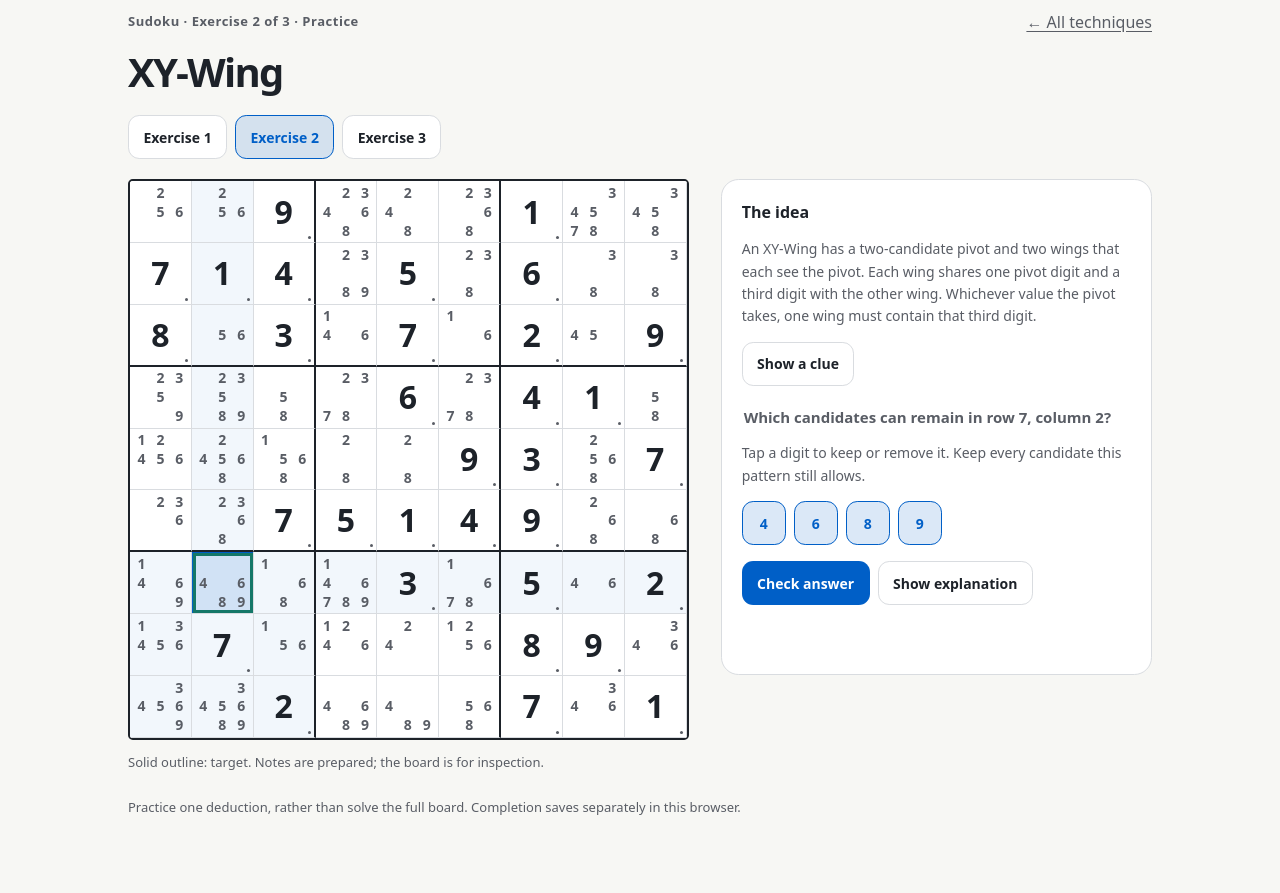
it: lets learners practice xy-wing-2 without spoiling the pattern
Click the button "Show a clue" at (798, 364), box [742, 342, 854, 386]
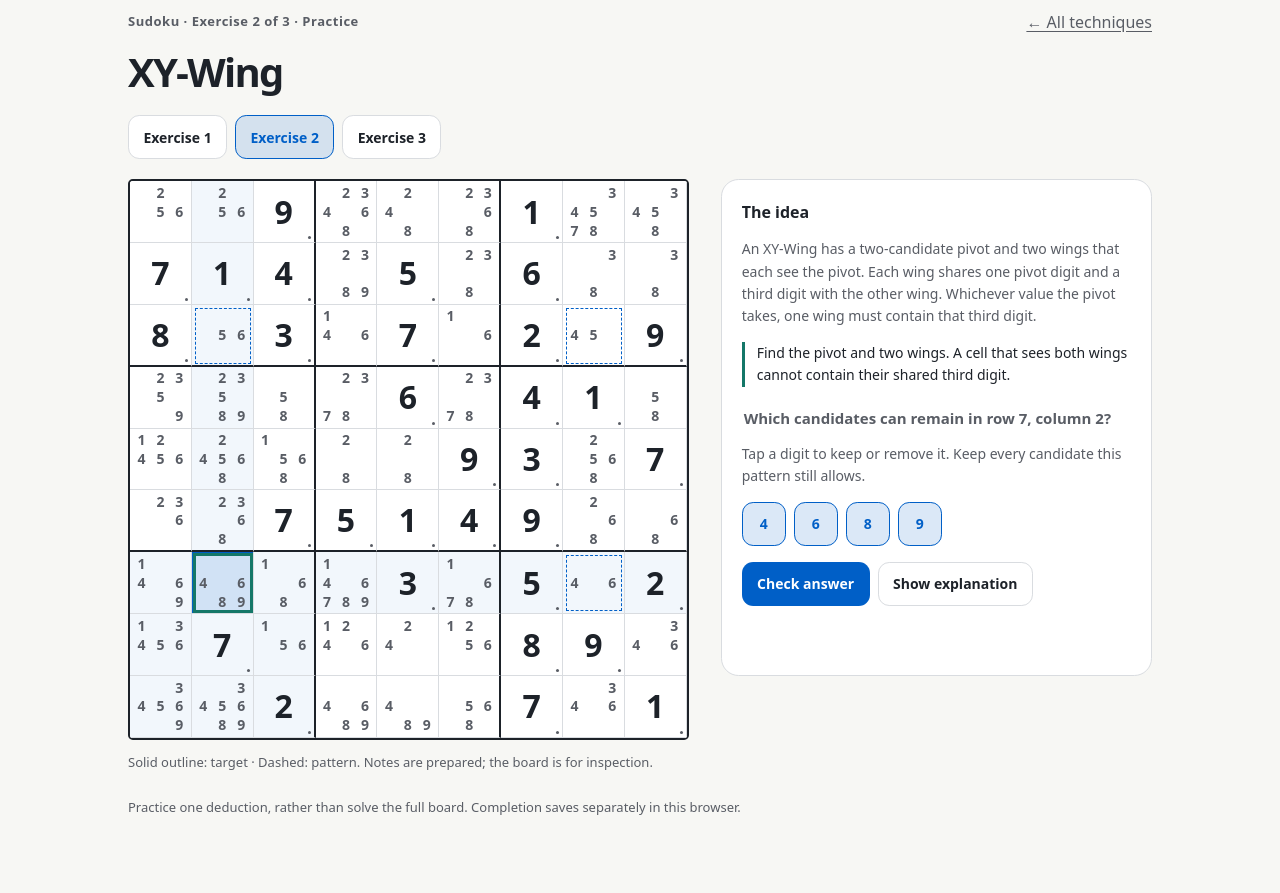
Click the button "Show explanation" at (955, 584), box [878, 562, 1033, 606]
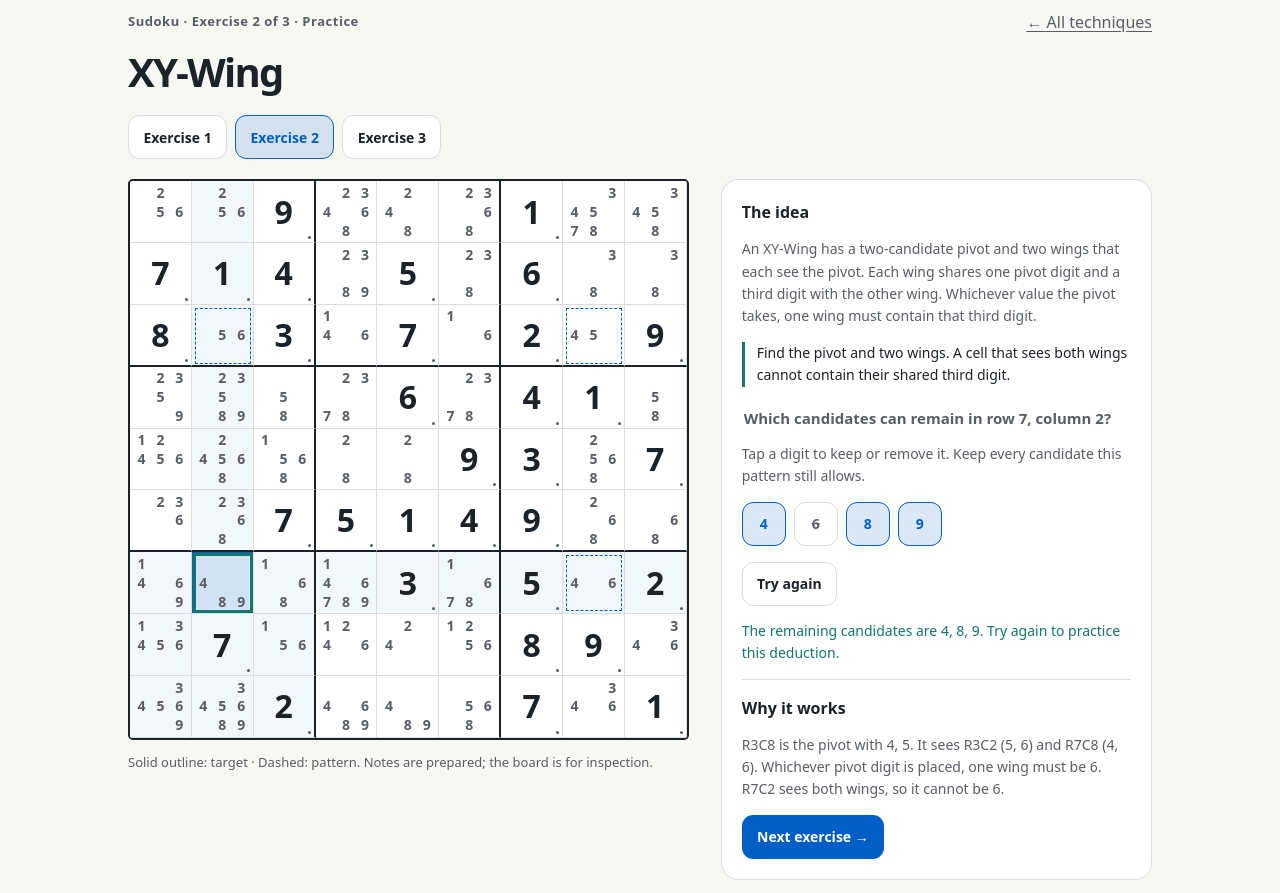
Result: the button "Try again" is shown
Click the button "Try again" at (789, 584), box [742, 562, 837, 606]
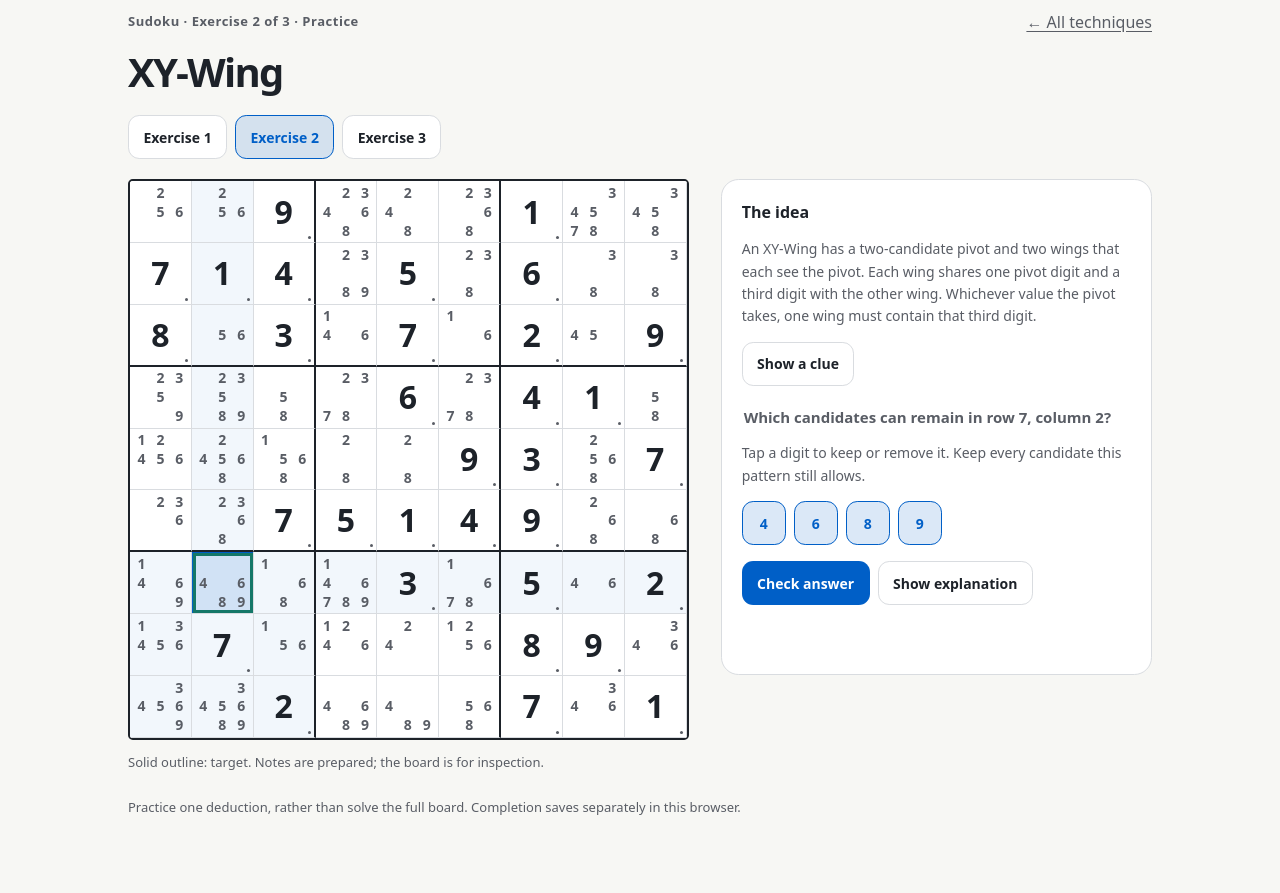
Result: the button "Check answer" is shown
Click the button "Check answer" at (806, 583), box [742, 561, 870, 605]
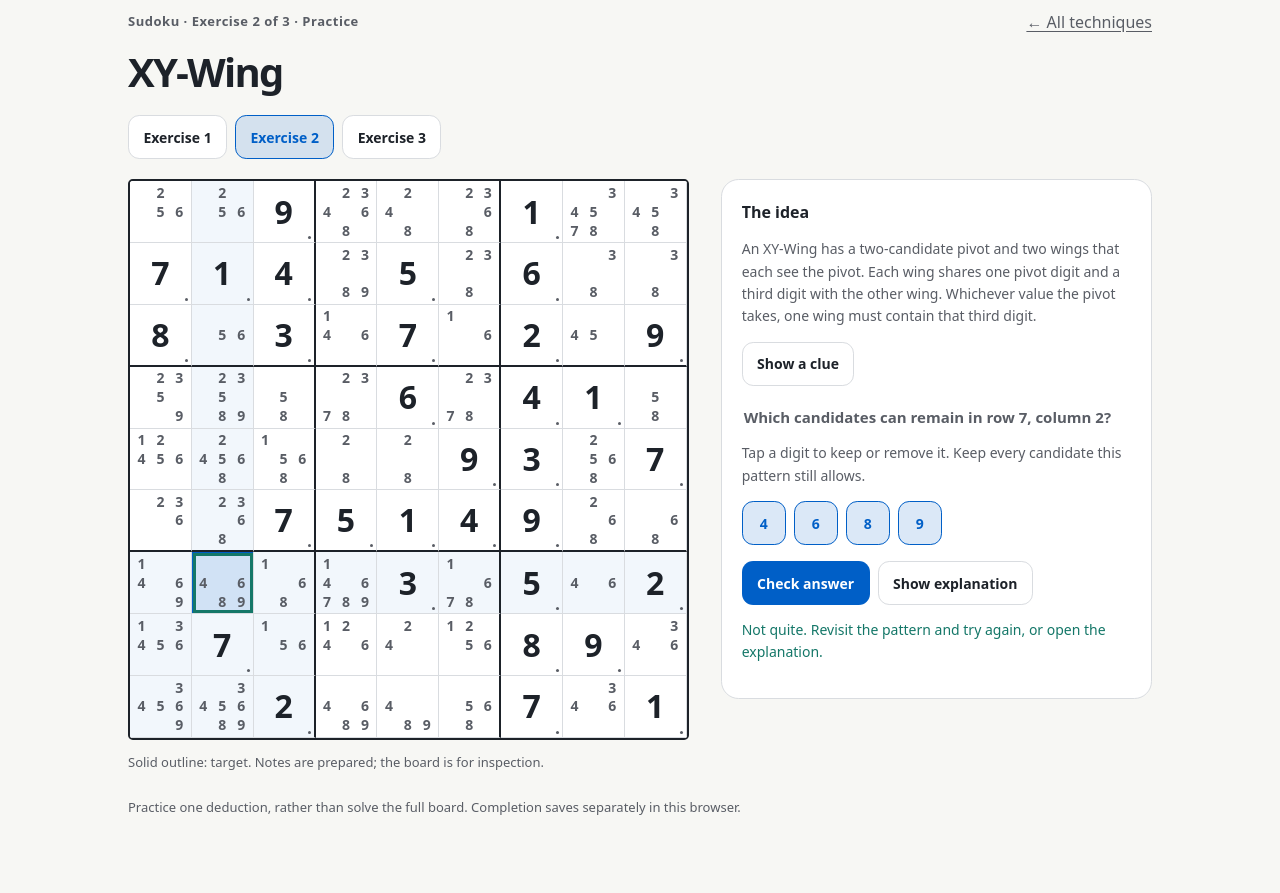
Result: the message "Not quite. Revisit the pattern and try again, or open the explanation." is shown at [742, 619, 1131, 664]
Click the button "6" at (816, 523), box [794, 501, 838, 545]
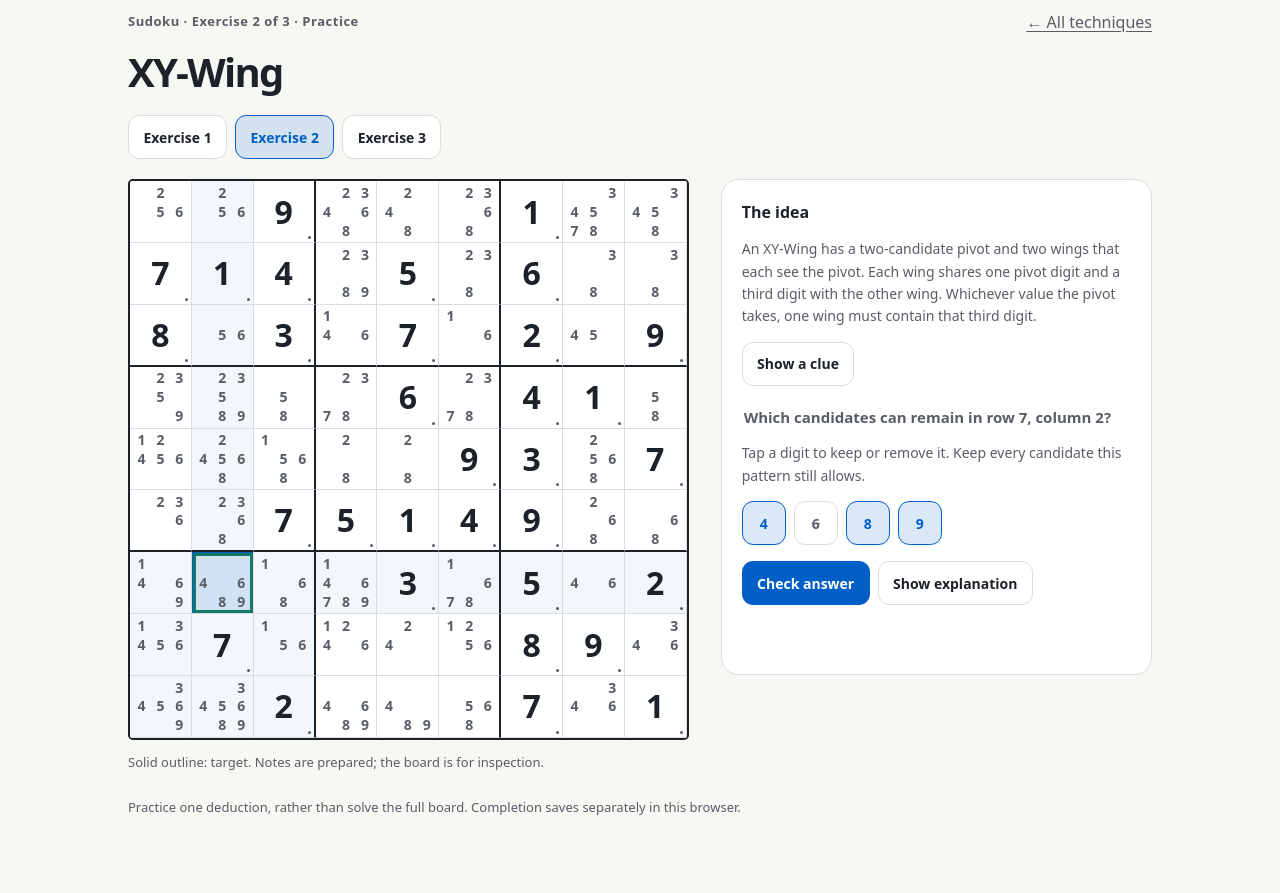
Result: the button "Check answer" is shown
Click the button "Check answer" at (806, 583), box [742, 561, 870, 605]
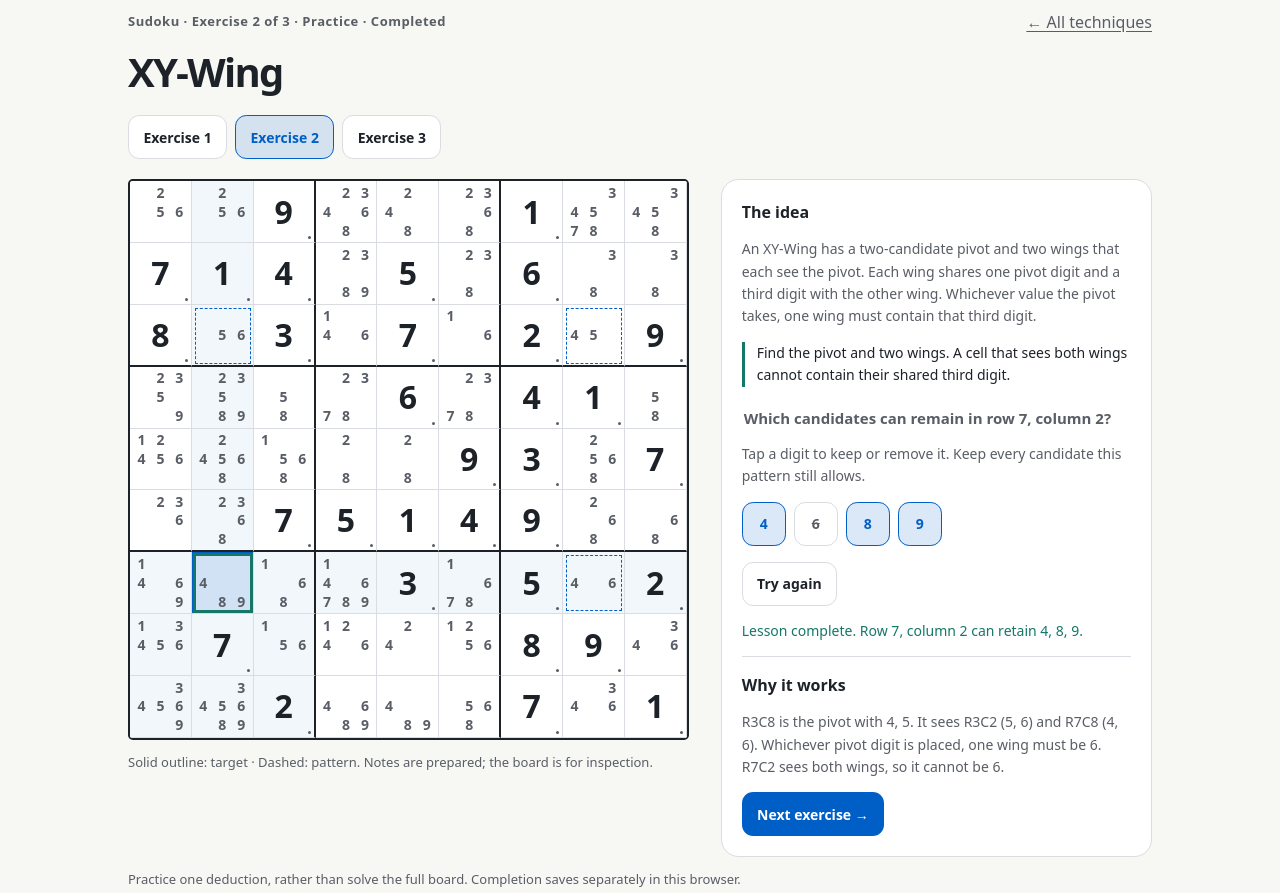
Result: the message "Lesson complete. Row 7, column 2 can retain 4, 8, 9." is shown at [742, 620, 1131, 642]
